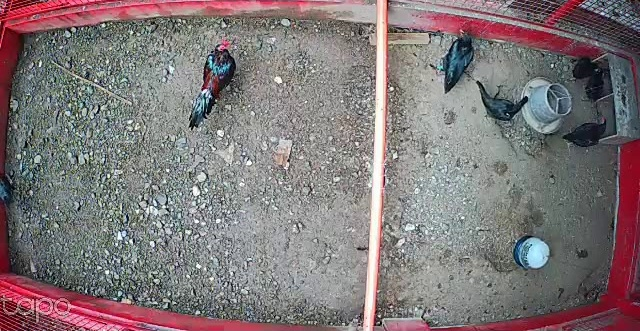Chicken: (472, 76, 533, 128), (432, 28, 479, 95), (561, 111, 612, 155), (580, 62, 610, 101), (567, 53, 595, 84)
Drinker: (514, 235, 550, 270)
Feeder: (517, 74, 574, 134)
Rooster: (186, 36, 240, 128)
